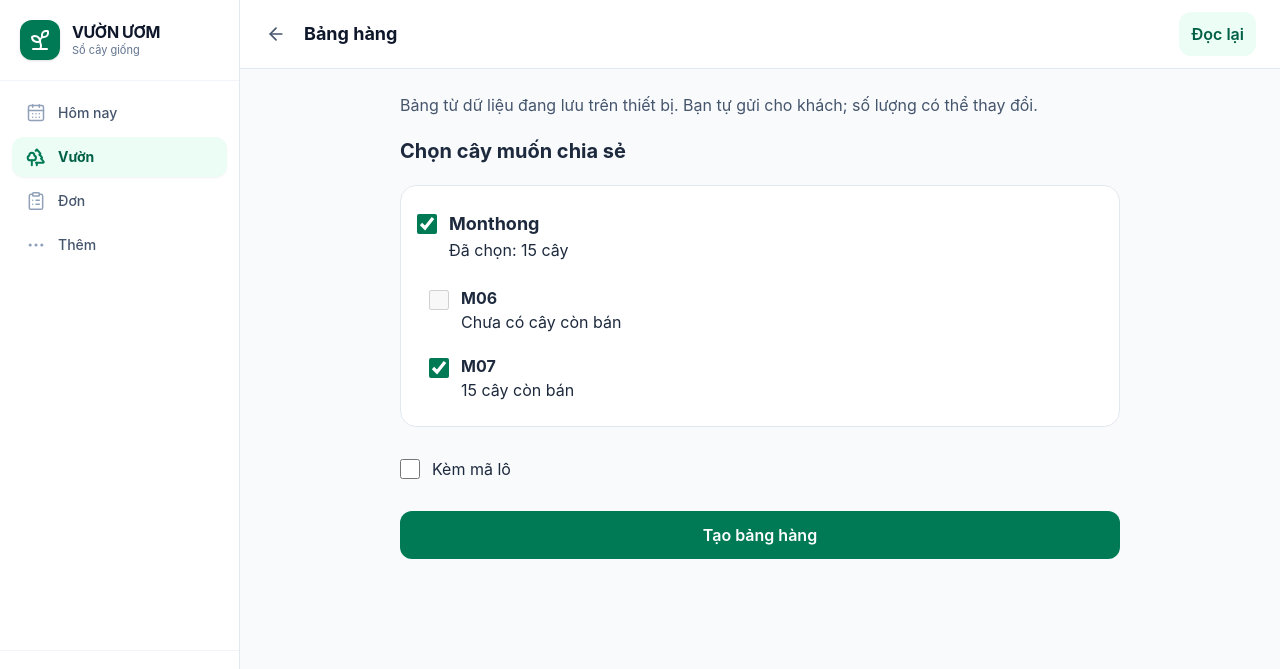
Test: B1 selection and share (real Dexie) › B115 rejects a selected batch that becomes zero, then reconciles without selecting a replacement
Expected: the checkbox named "Chọn lô M07" is shown, [429, 358, 449, 378]
Click the button "Tạo bảng hàng": x=760, y=535 [400, 511, 1120, 559]
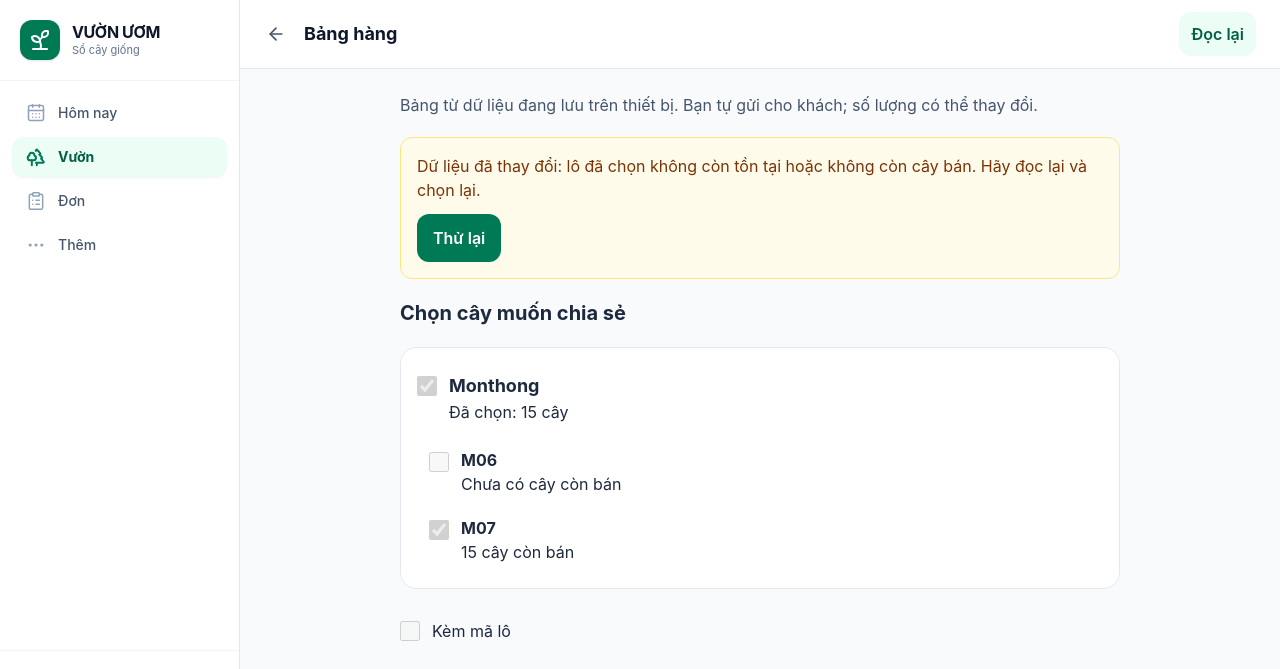
Now the message shows "Dữ liệu đã thay đổi", box [417, 156, 1087, 200]
Click the button "Thử lại": x=459, y=238 [417, 214, 501, 262]
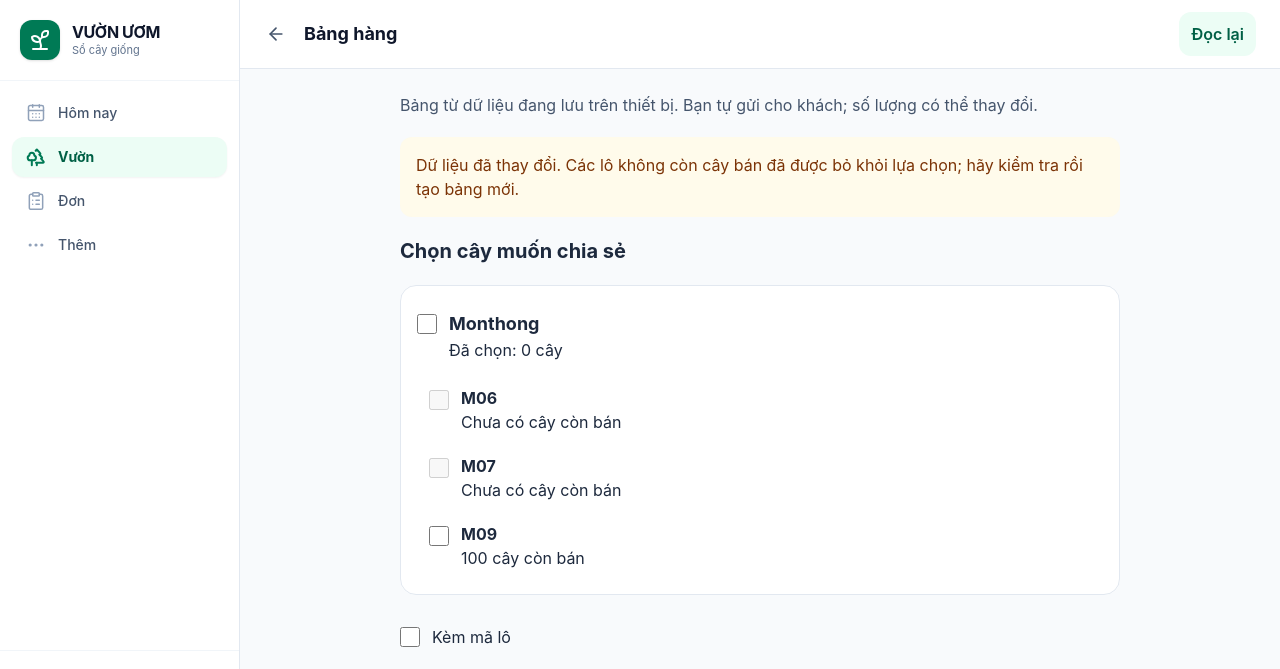
Now the checkbox named "Chọn lô M09" is not checked, box [429, 526, 449, 546]
Now the text "Các lô không còn cây bán" is shown, box [416, 155, 1083, 199]
